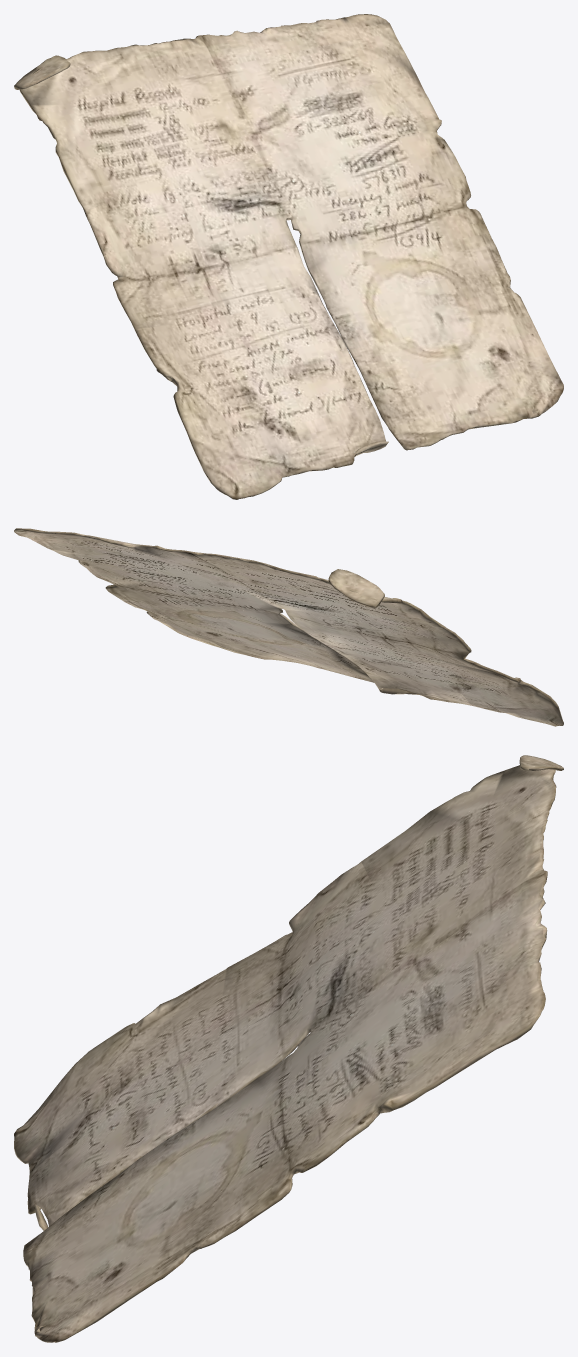
Rendered from note.glb.
3 views of the same model, one above another, from view 1: azimuth 30°, elevation 25°; view 2: azimuth 150°, elevation 25°; view 3: azimuth 270°, elevation 25° (orthographic). The views are drawn at different scales.
Size of the model in its own units: 1 by 0.758 by 0.9745.
Materials: 1 (1 with a texture image).
